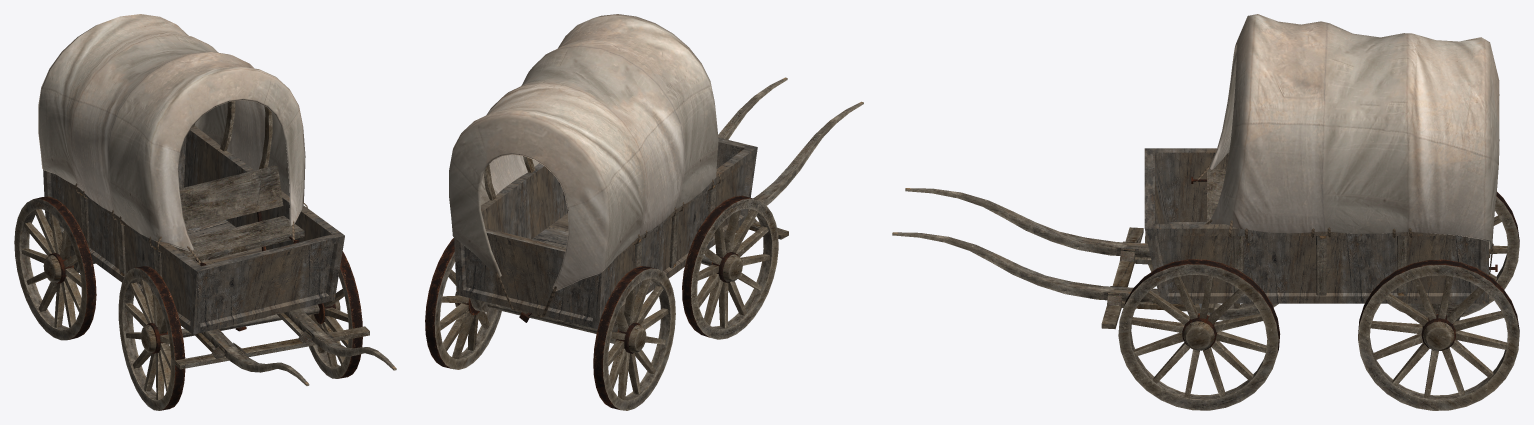
File: Carretto Mercante.fbx
3 renders of one model, left to right at view 1: azimuth 30°, elevation 25°; view 2: azimuth 150°, elevation 25°; view 3: azimuth 270°, elevation 25°, orthographic. The views are drawn at different scales.
Parts seen in each view (by area): view 1: polySurface28, polySurface181.001, polySurface133, polySurface165.001, polySurface151.001; view 2: polySurface28, polySurface181.001, polySurface165.001, polySurface133, polySurface134; view 3: polySurface28, polySurface181.001, polySurface134, polySurface151.001, polySurface133, polySurface165.001.
Part boxes in pixels (bbox=[...]): polySurface28: bbox=[38, 14, 307, 264]; polySurface181.001: bbox=[43, 101, 396, 385]; polySurface133: bbox=[14, 196, 96, 340]; polySurface165.001: bbox=[118, 266, 185, 410]; polySurface151.001: bbox=[308, 251, 362, 378]; polySurface28: bbox=[449, 14, 720, 316]; polySurface181.001: bbox=[454, 77, 863, 343]; polySurface165.001: bbox=[682, 195, 778, 339]; polySurface133: bbox=[593, 266, 675, 410]; polySurface134: bbox=[425, 238, 501, 369]; polySurface28: bbox=[1195, 14, 1499, 274]; polySurface181.001: bbox=[892, 148, 1497, 329]; polySurface134: bbox=[1358, 259, 1519, 410]; polySurface151.001: bbox=[1118, 259, 1280, 410]; polySurface133: bbox=[1388, 191, 1519, 317]; polySurface165.001: bbox=[1145, 232, 1278, 320].
Size of the model in its own units: 99.22 by 149 by 250.
